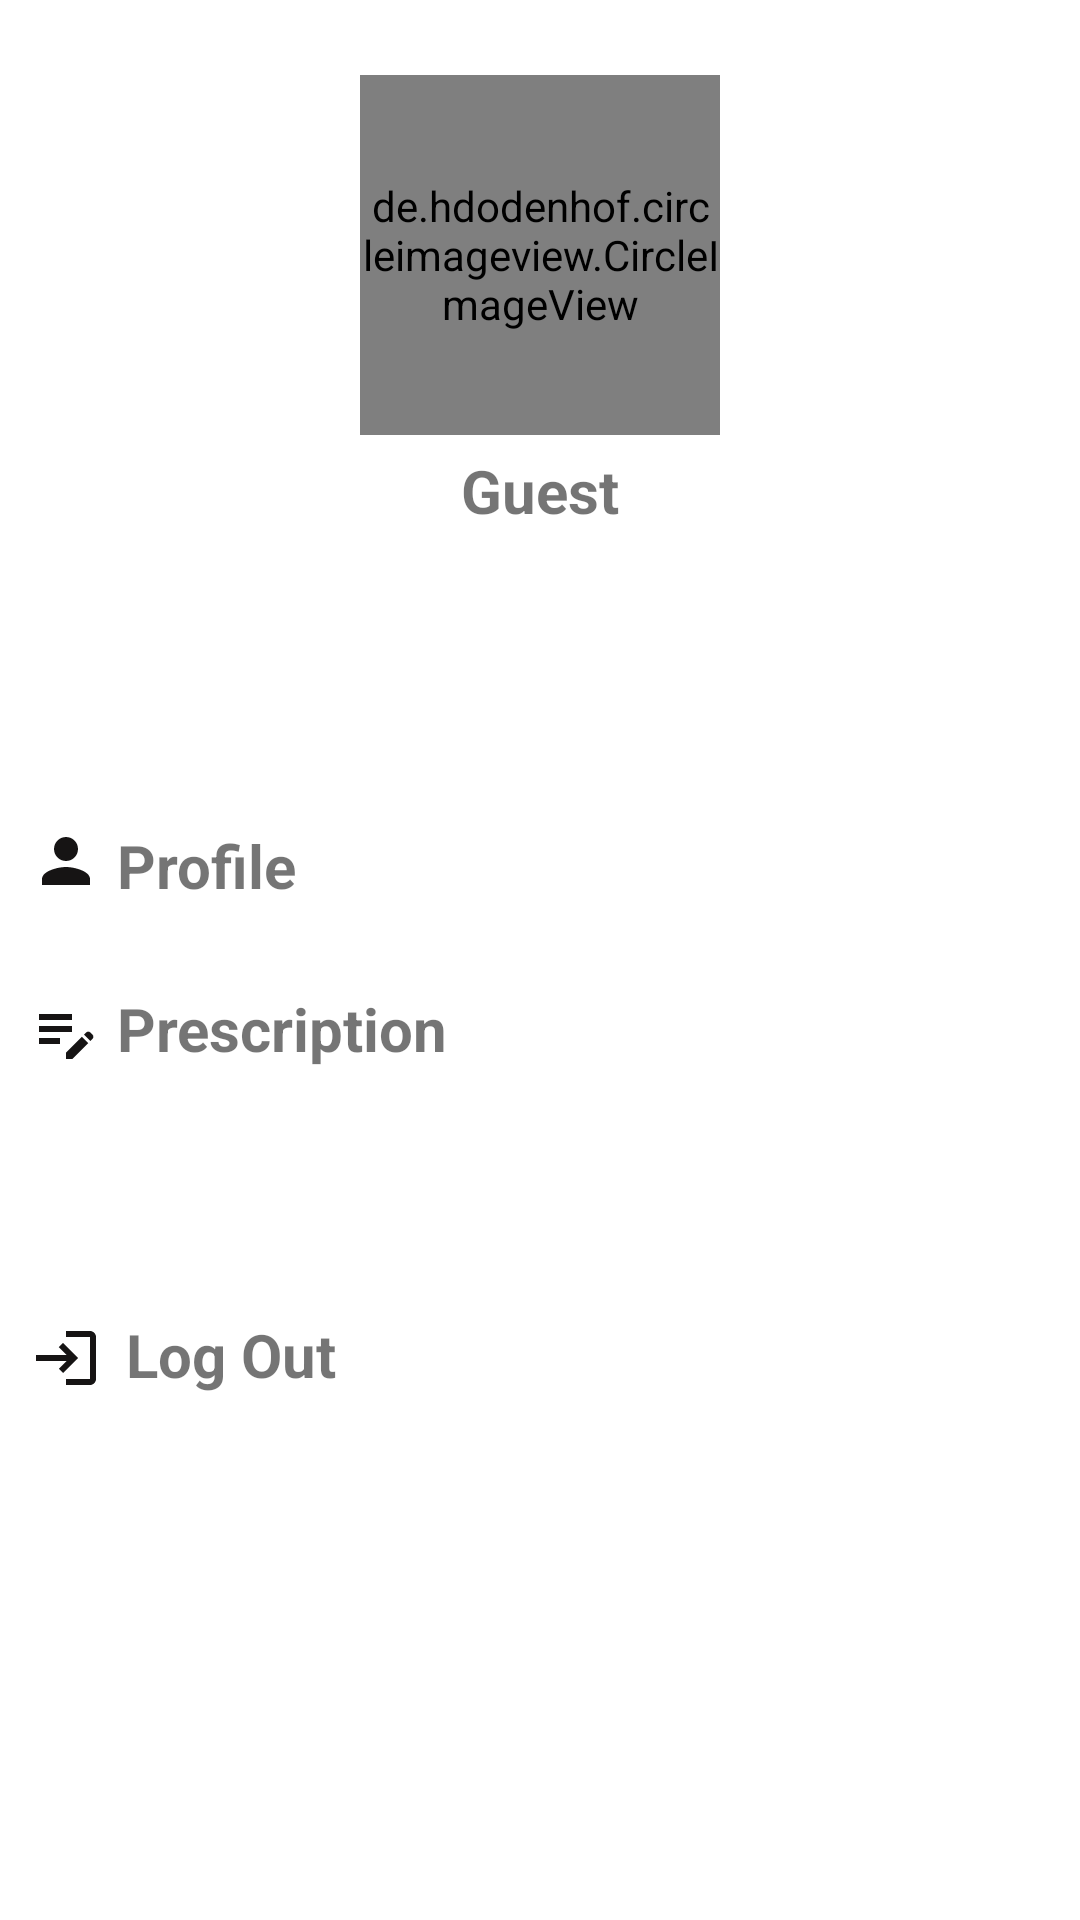

Icon click points for this 1080px x 1920px phone screenshot, format point (x, y):
edit note: point (66, 1036)
person: point (66, 861)
